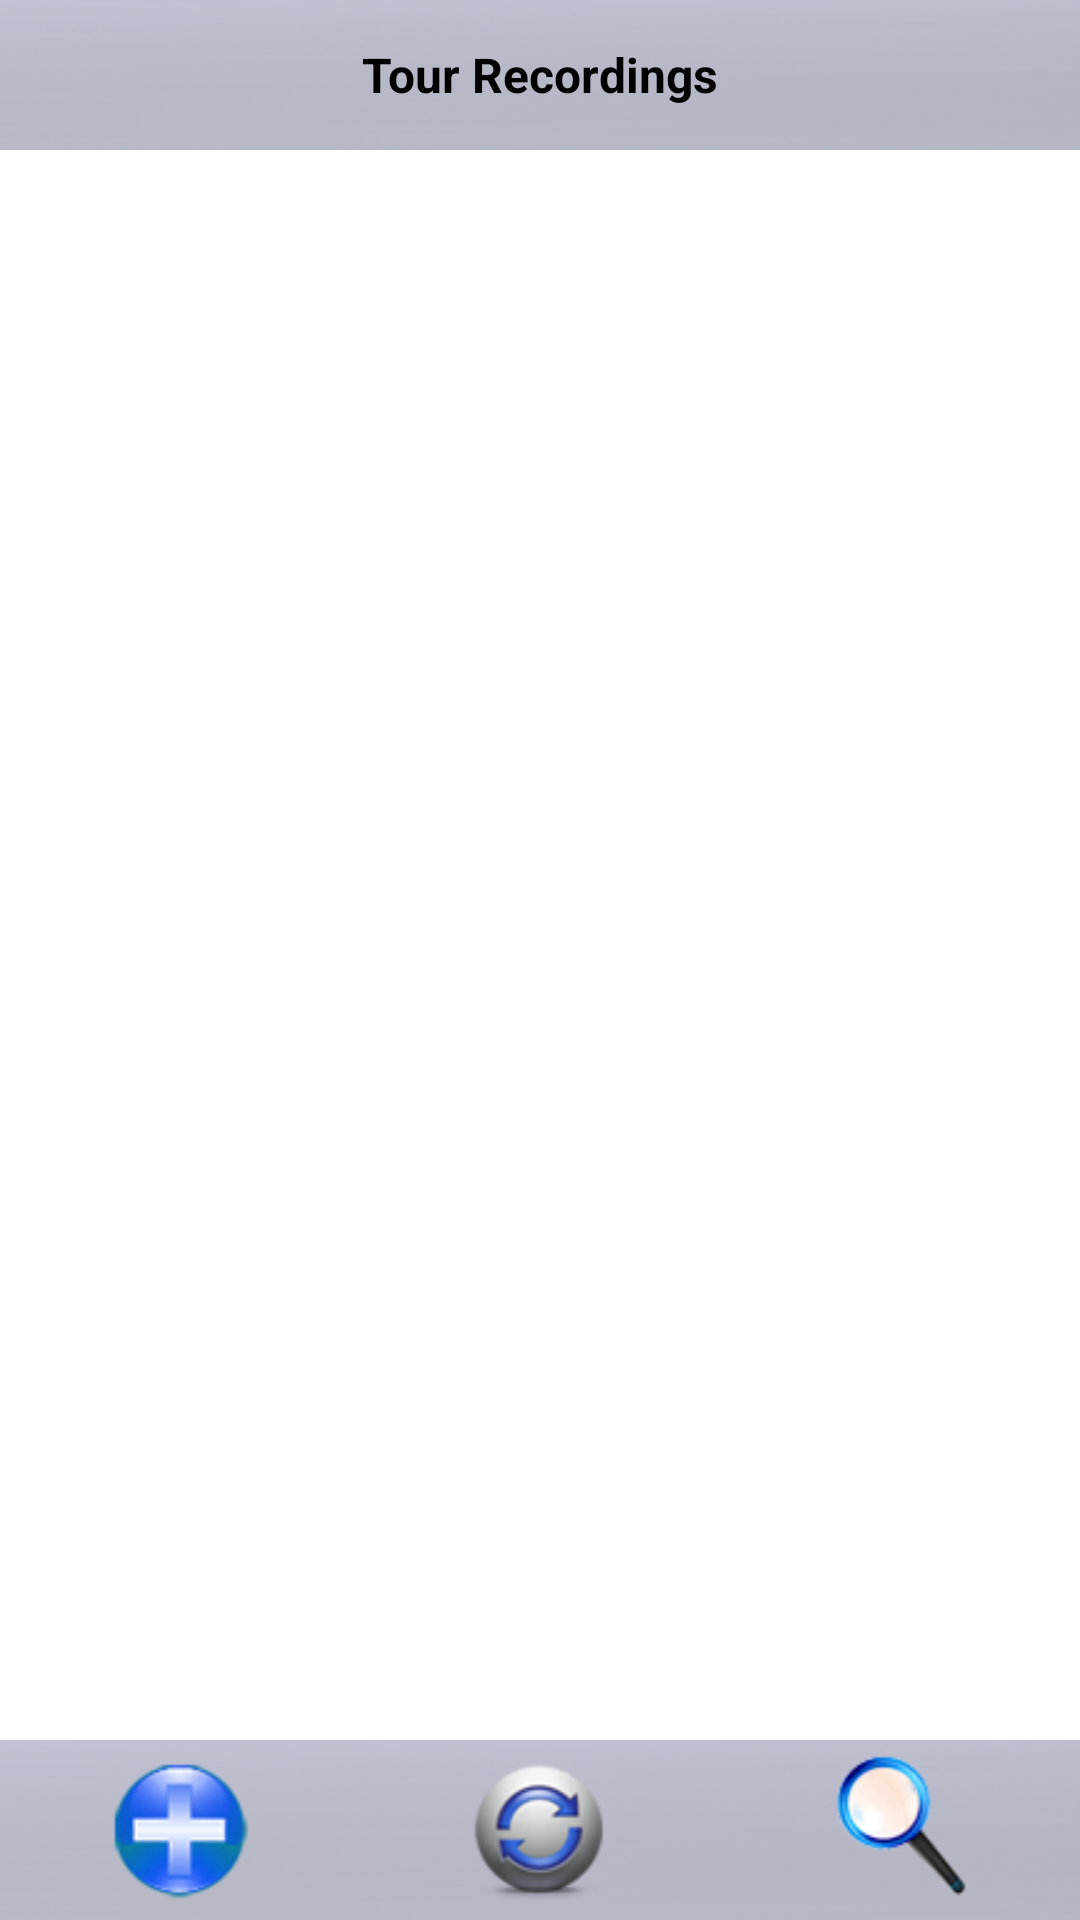

Screen size 1080x1920. Icon name, then its box in pixels as [x1,y1,x2,y2]:
add focus: [114,1764,248,1898]
refresh focus: [475,1766,603,1895]
search focus: [837,1757,966,1896]
